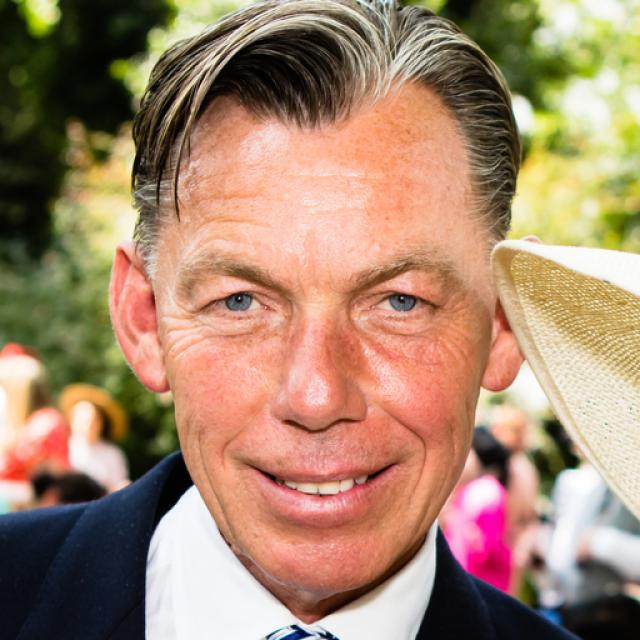Pigmentation: (229, 315, 310, 353), (313, 321, 368, 374)
